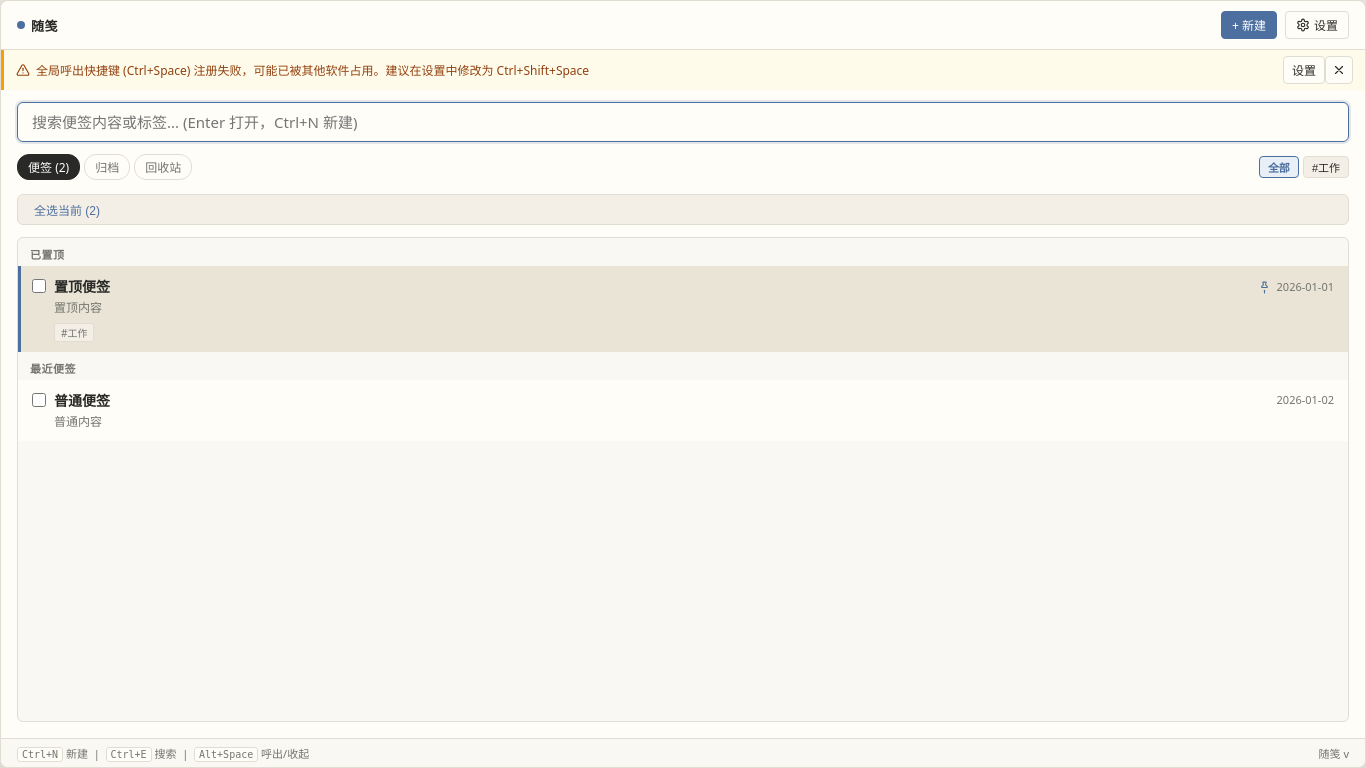
Test: App Workflow & State Management › blocks navigation to settings and preserves note when save fails during flush
The image size is (1366, 768).
# Click note to enter editor
Click the text "置顶便签" at (82, 286), box [54,276,110,296]
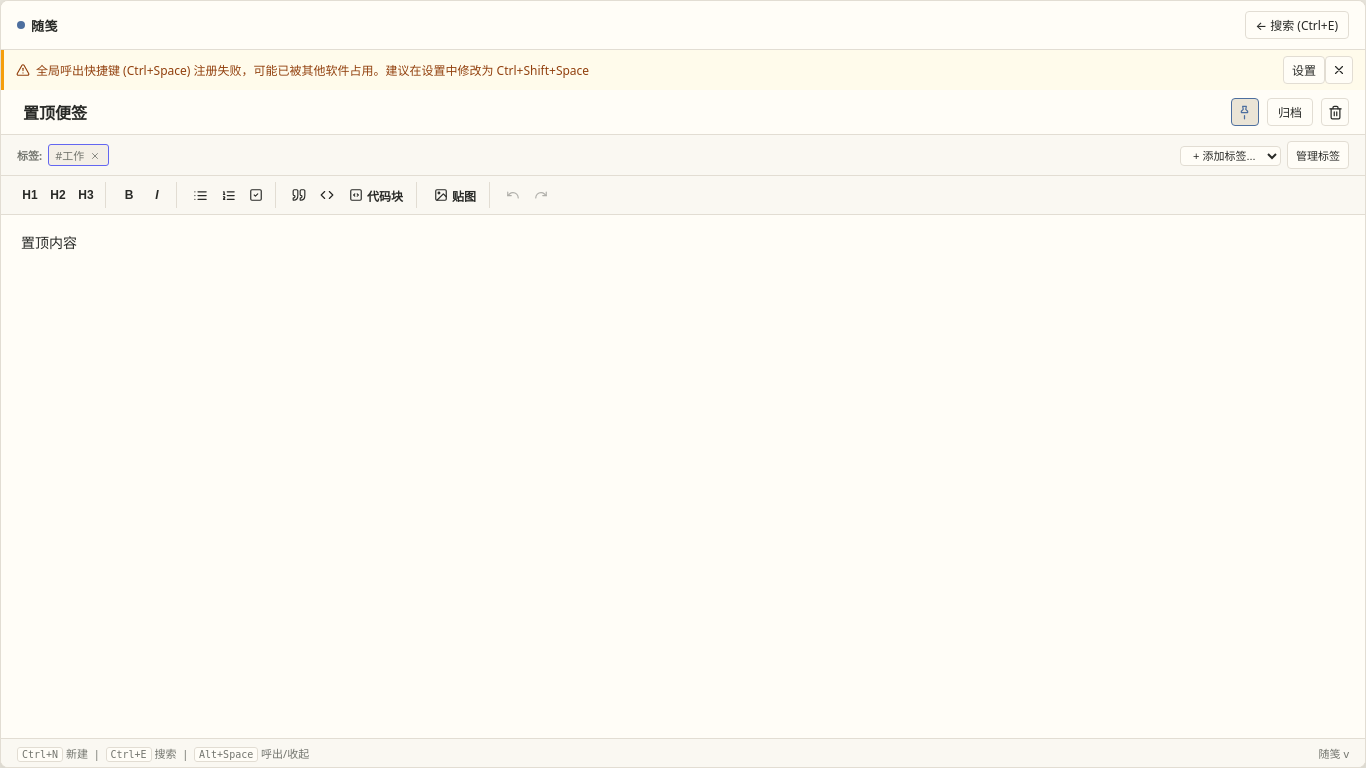
Expected: the field named "便签标题输入框" is shown
# Change title so changes are scheduled
Replace the text in the field named "便签标题输入框" with "修改后的标题" at (614, 112), box [17,99,1211,125]
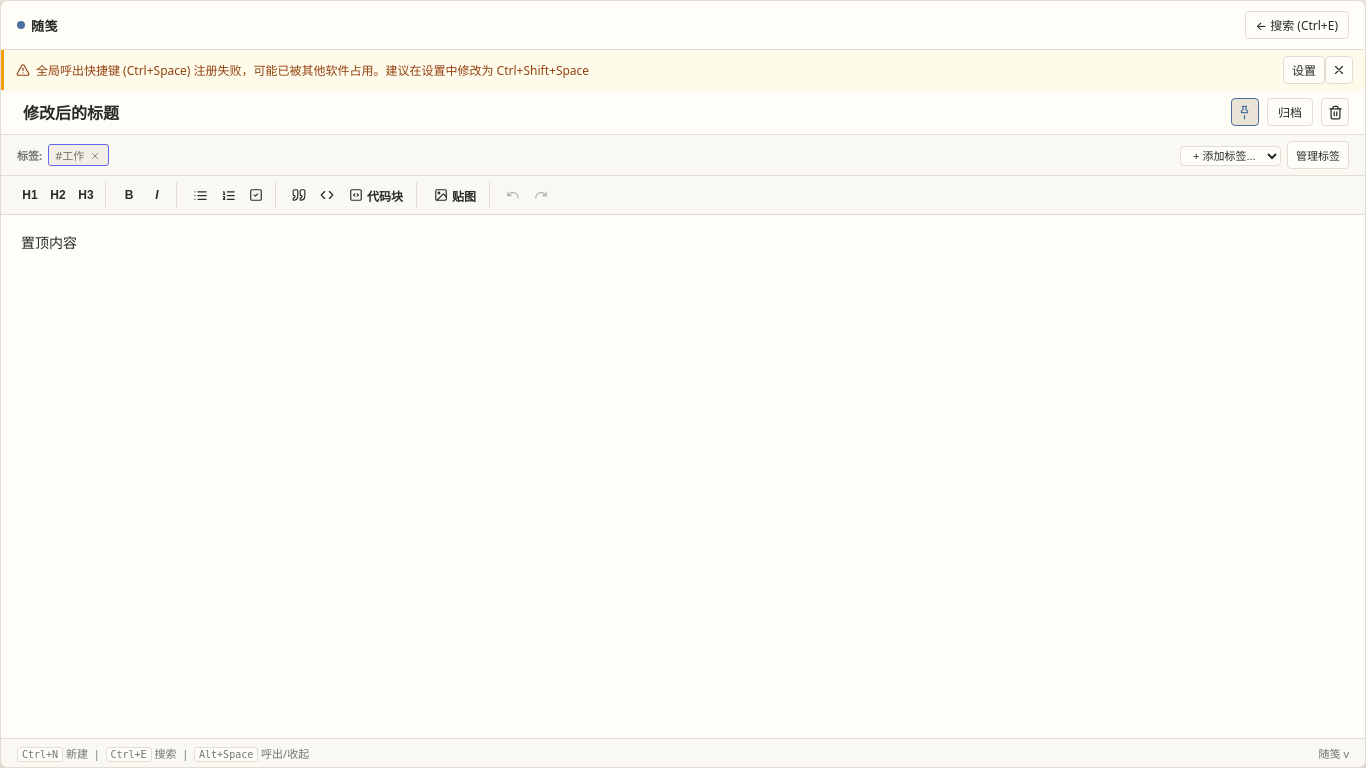
# Click the "设置" button in warning banner (aria-label: 前往设置热键)
Click the button with aria-label "前往设置热键" at (1304, 70), box [1283,56,1325,84]
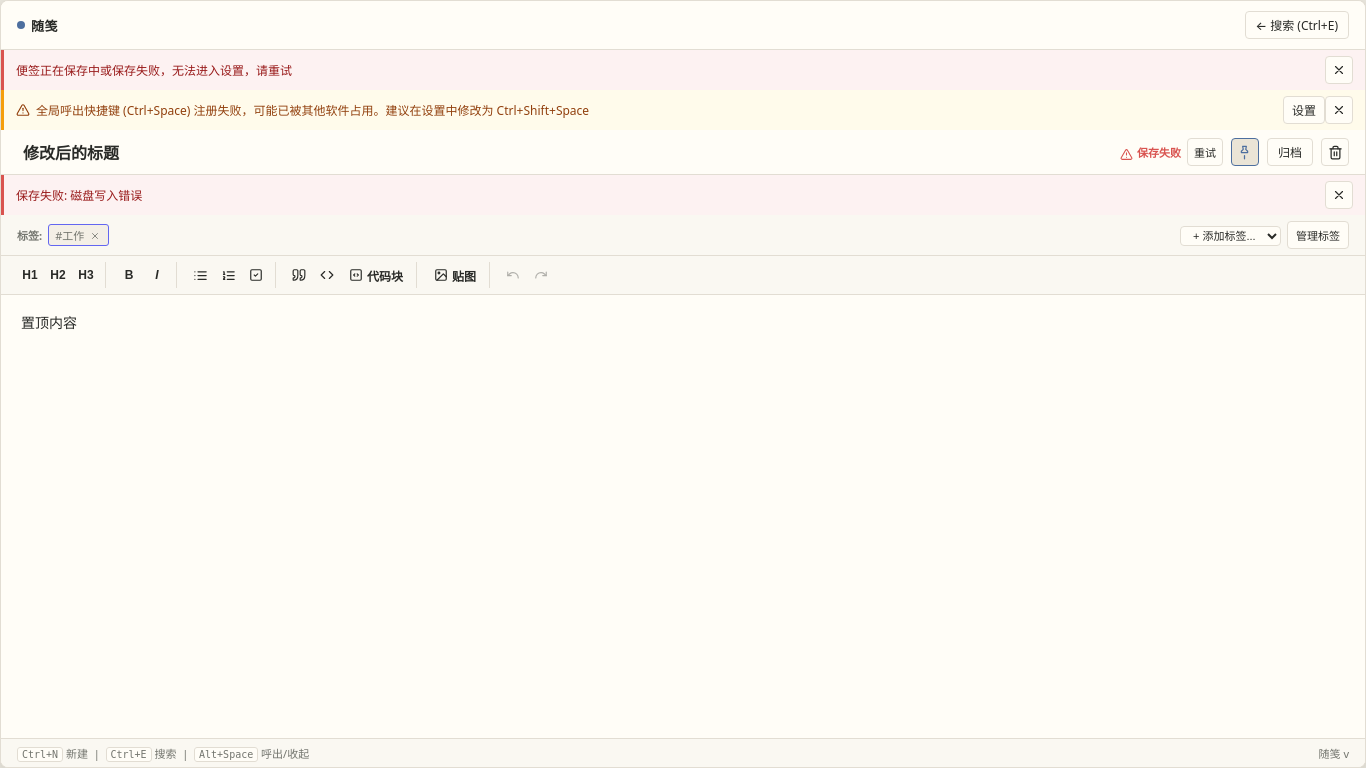
Expected: the text "便签正在保存中或保存失败，无法进入设置，请重试" is shown, [16,61,292,79]
